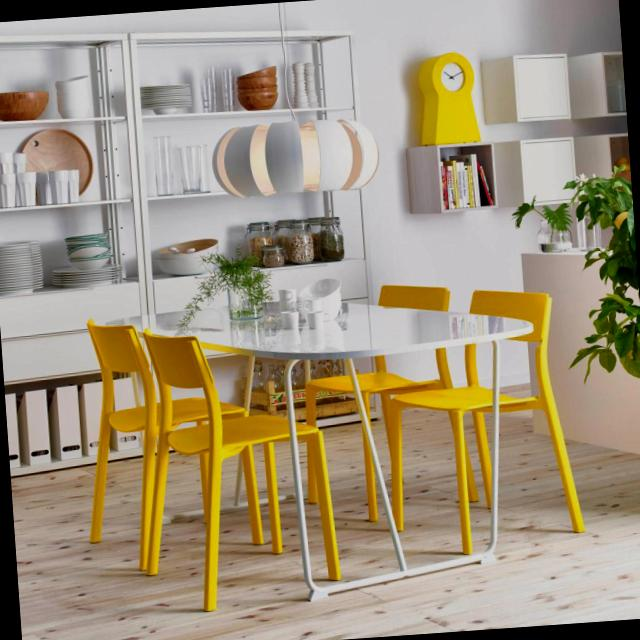obstacle: (70, 263, 590, 622)
